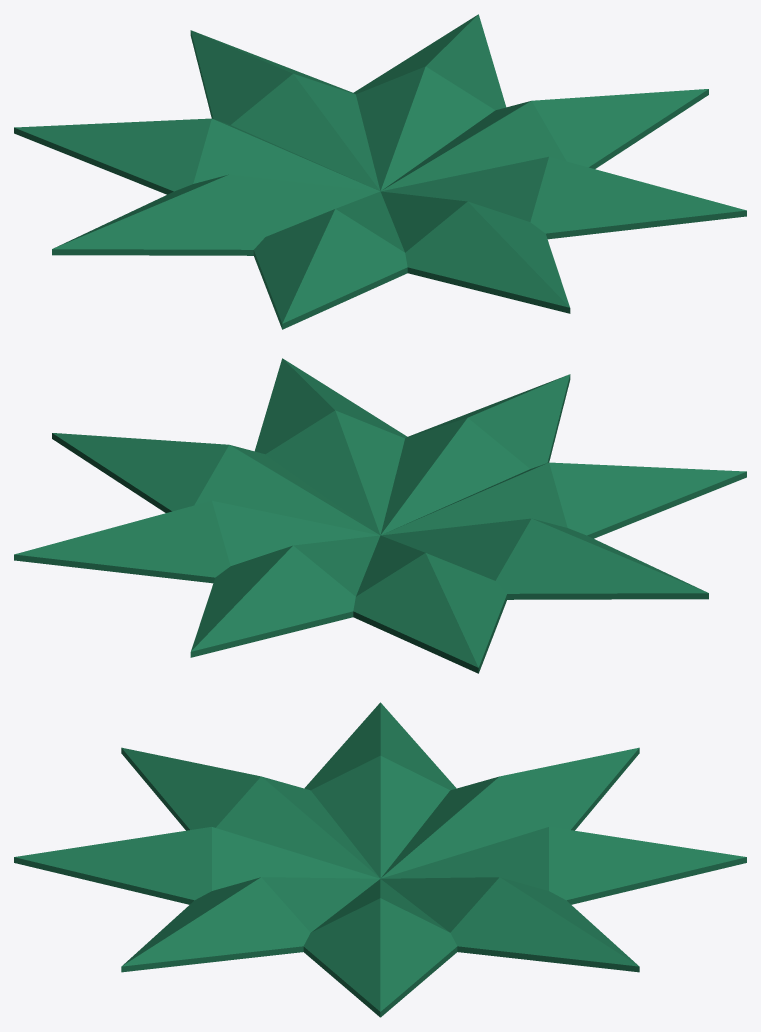
3 renders of one model, top to bottom at view 1: azimuth 30°, elevation 25°; view 2: azimuth 150°, elevation 25°; view 3: azimuth 270°, elevation 25°, orthographic. The views are drawn at different scales.
Visible parts, largest first — view 1: 花簇叶床_2.001; view 2: 花簇叶床_2.001; view 3: 花簇叶床_2.001.
Part boxes in pixels (left/top/right/bottom): 花簇叶床_2.001: left=14, top=14, right=746, bottom=329; 花簇叶床_2.001: left=14, top=358, right=746, bottom=673; 花簇叶床_2.001: left=14, top=702, right=746, bottom=1017.
Size of the model in its own units: 0.46 by 0.04 by 0.46.
